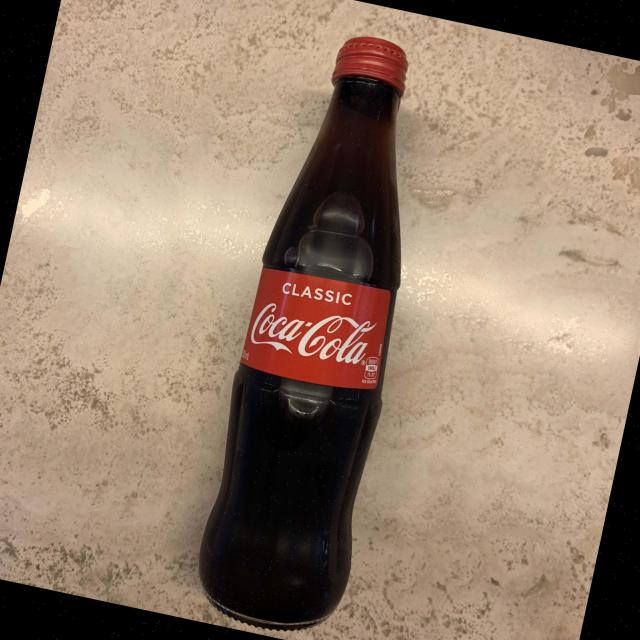coca-cola: (175, 13, 469, 640)
